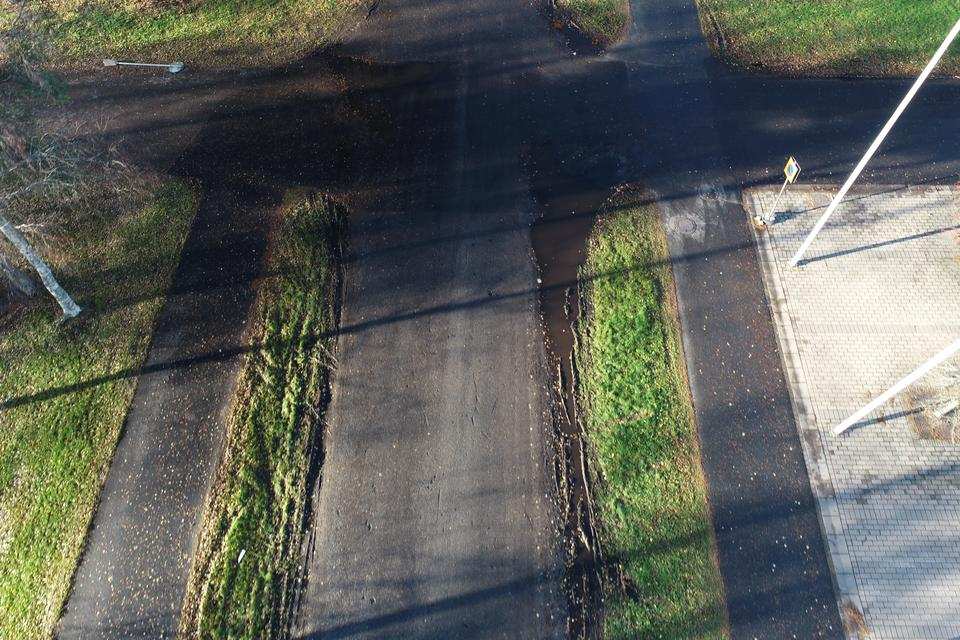intersection: (105, 0, 785, 257)
